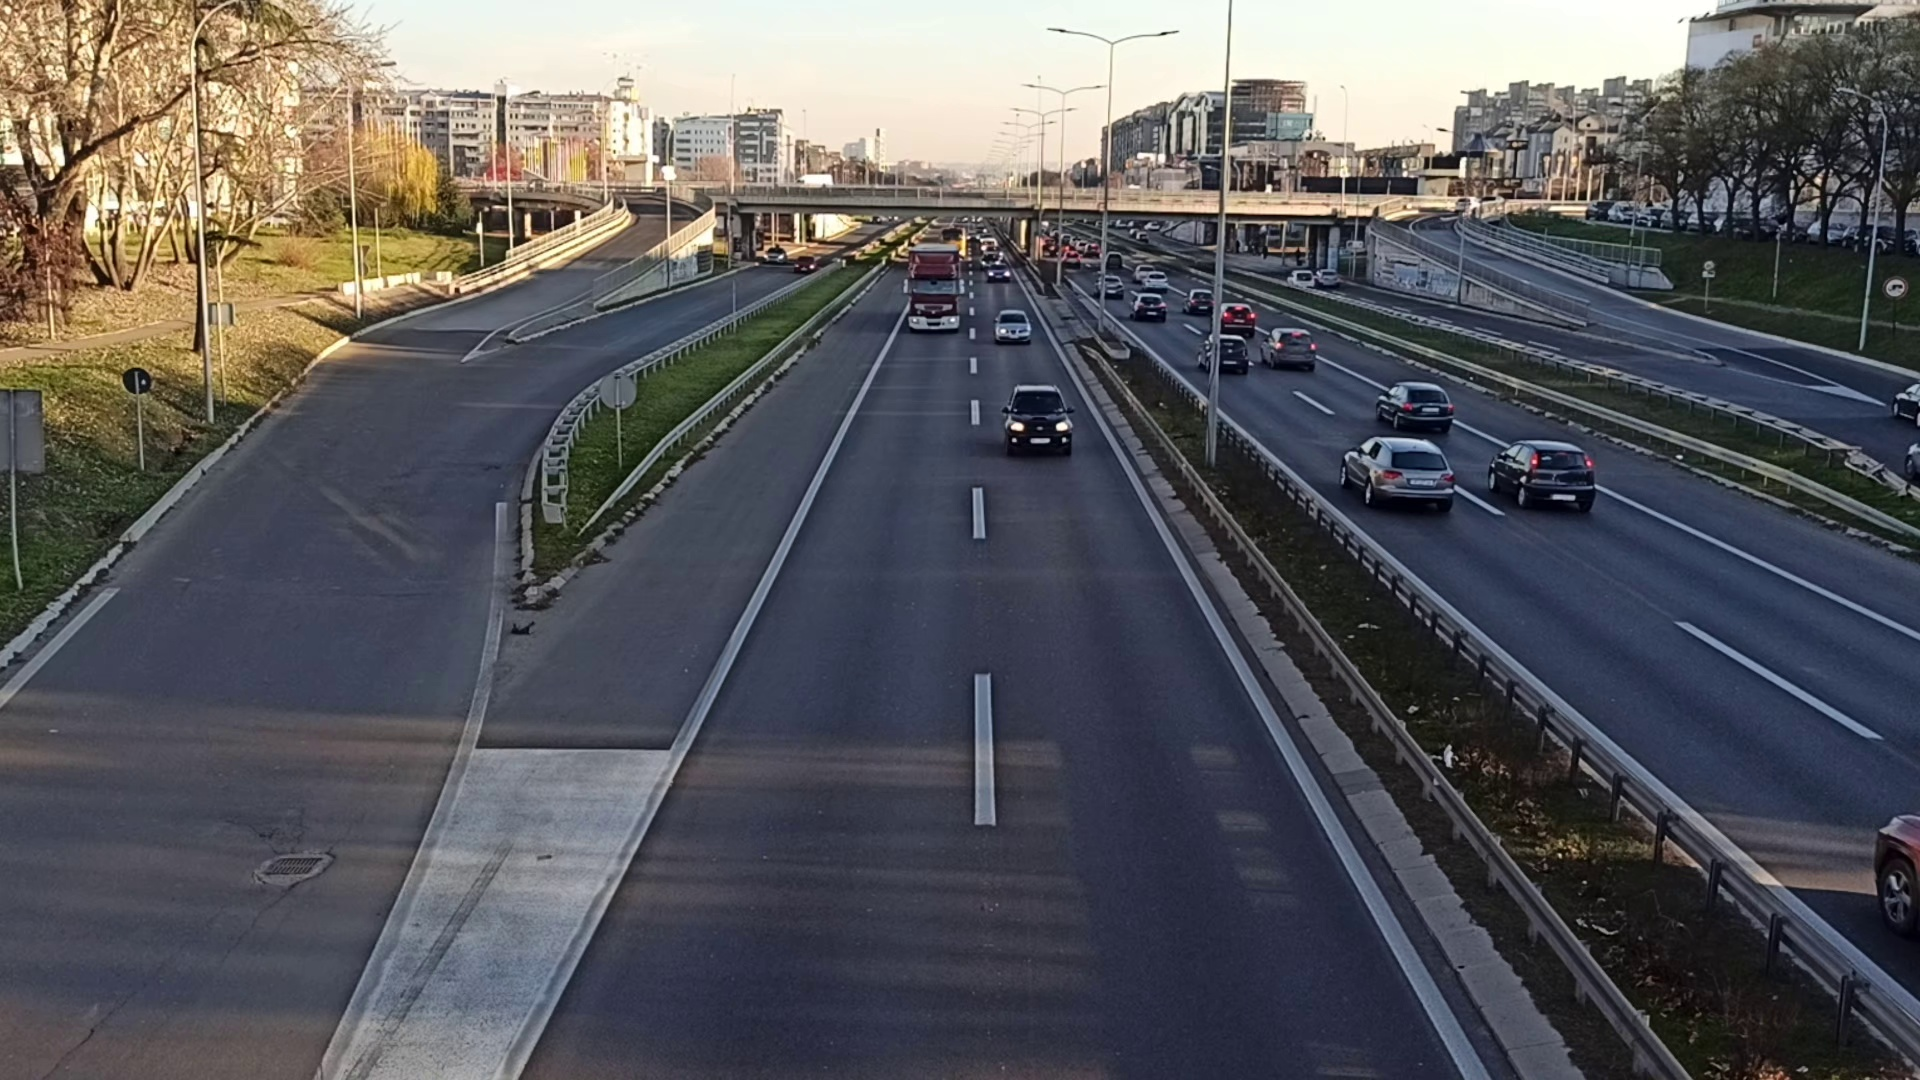car: (1340, 434, 1456, 512), (1489, 439, 1596, 516), (1005, 384, 1073, 454), (1375, 381, 1455, 431), (1261, 330, 1316, 367), (994, 309, 1030, 344)
truck: (909, 243, 963, 334)
